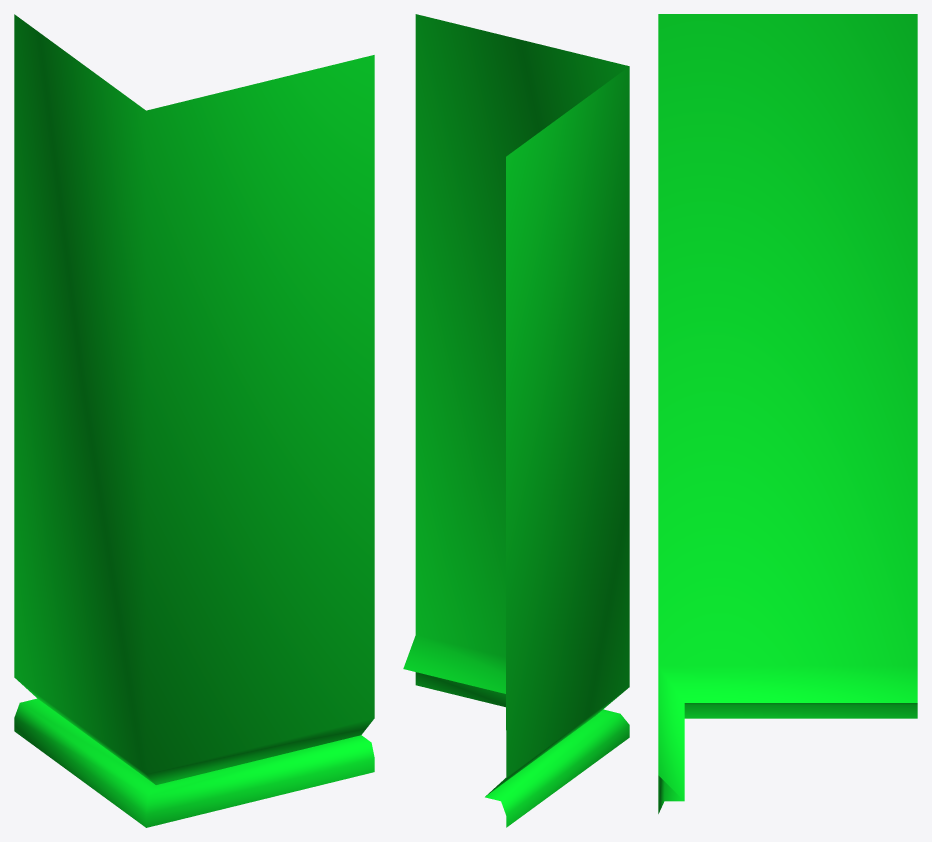
Rendered from 3x9m_outercornerwall.FBX.
3 views of the same model, side by side, from view 1: azimuth 30°, elevation 25°; view 2: azimuth 150°, elevation 25°; view 3: azimuth 270°, elevation 25° (orthographic). The views are drawn at different scales.
Visible parts, largest first — view 1: 3x9m_outercorner; view 2: 3x9m_outercorner; view 3: 3x9m_outercorner.
Part boxes in pixels (x1,y1,x2,y2): 3x9m_outercorner: [14, 14, 374, 827]; 3x9m_outercorner: [403, 14, 629, 827]; 3x9m_outercorner: [658, 14, 917, 813].
Size of the model in its own units: 300 by 900 by 300.
